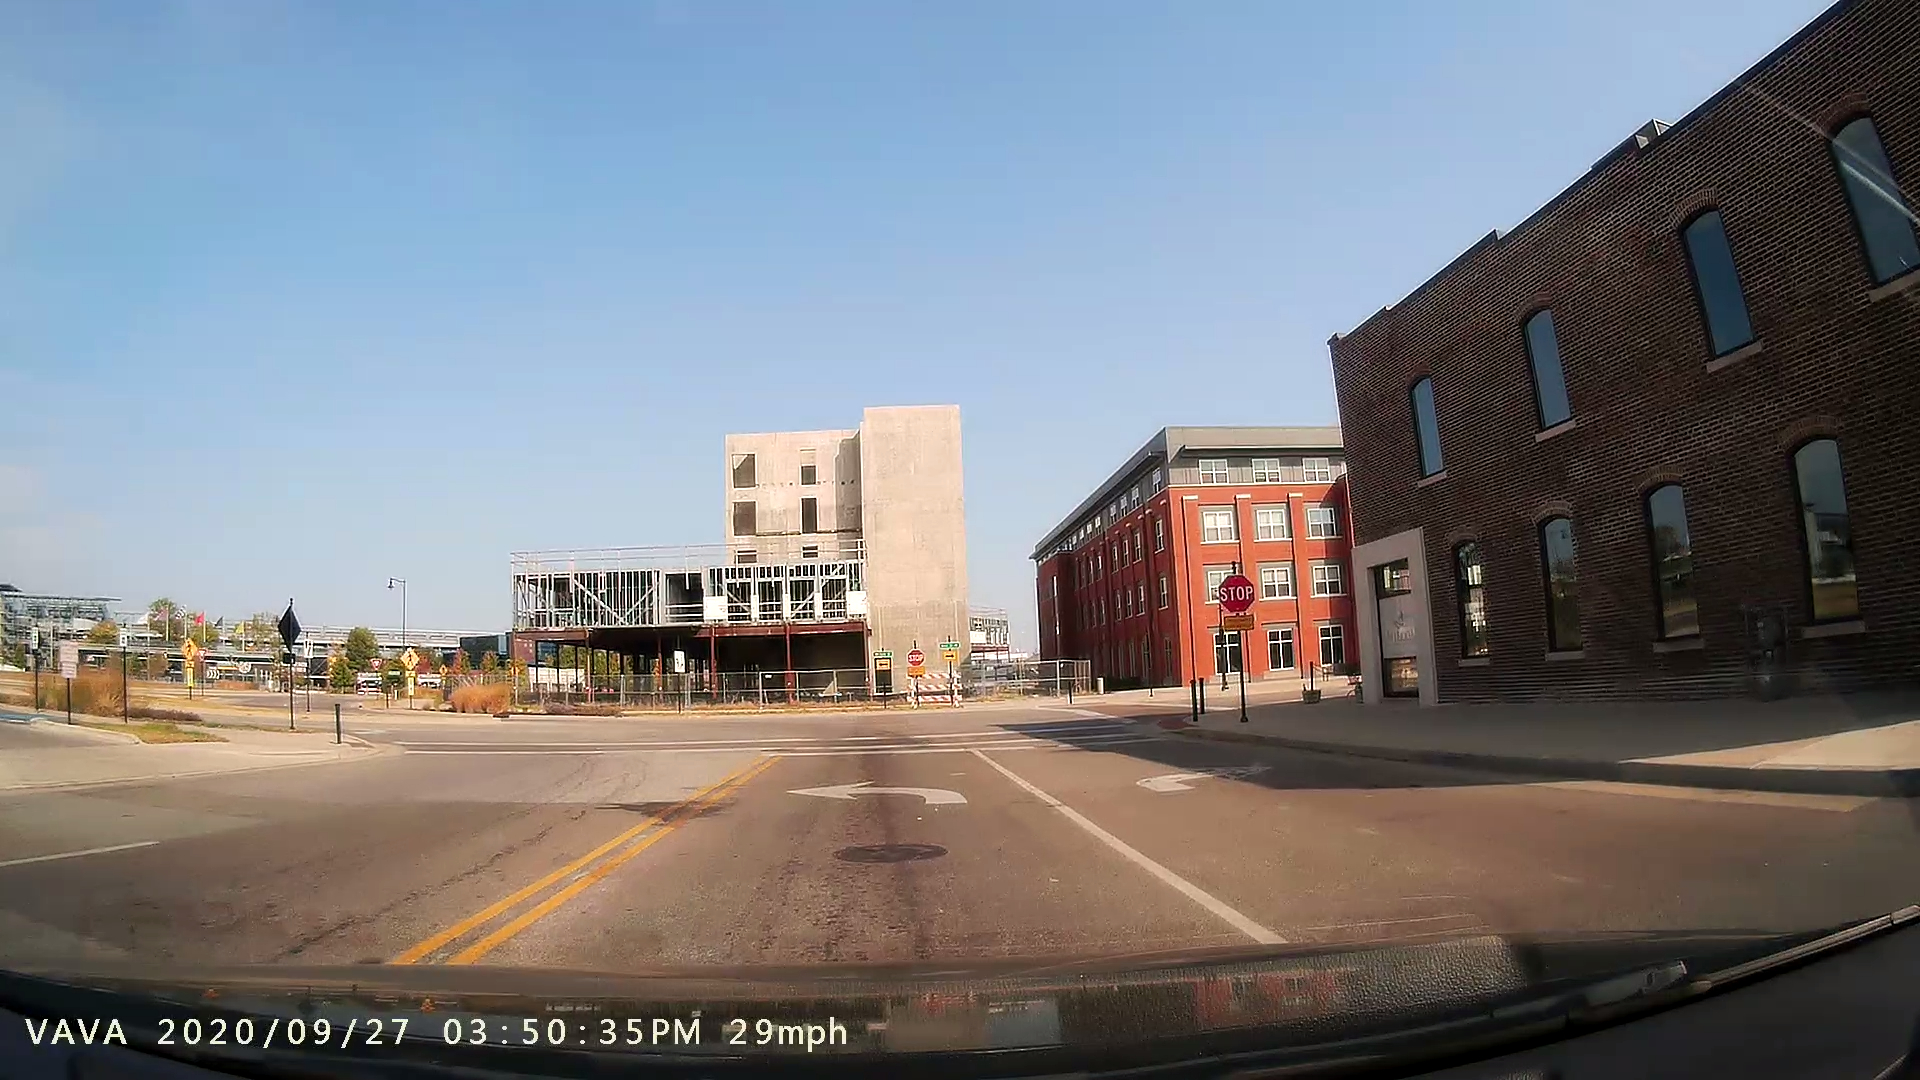left_turn: (785, 767, 982, 824)
right_turn: (1131, 752, 1307, 814)
